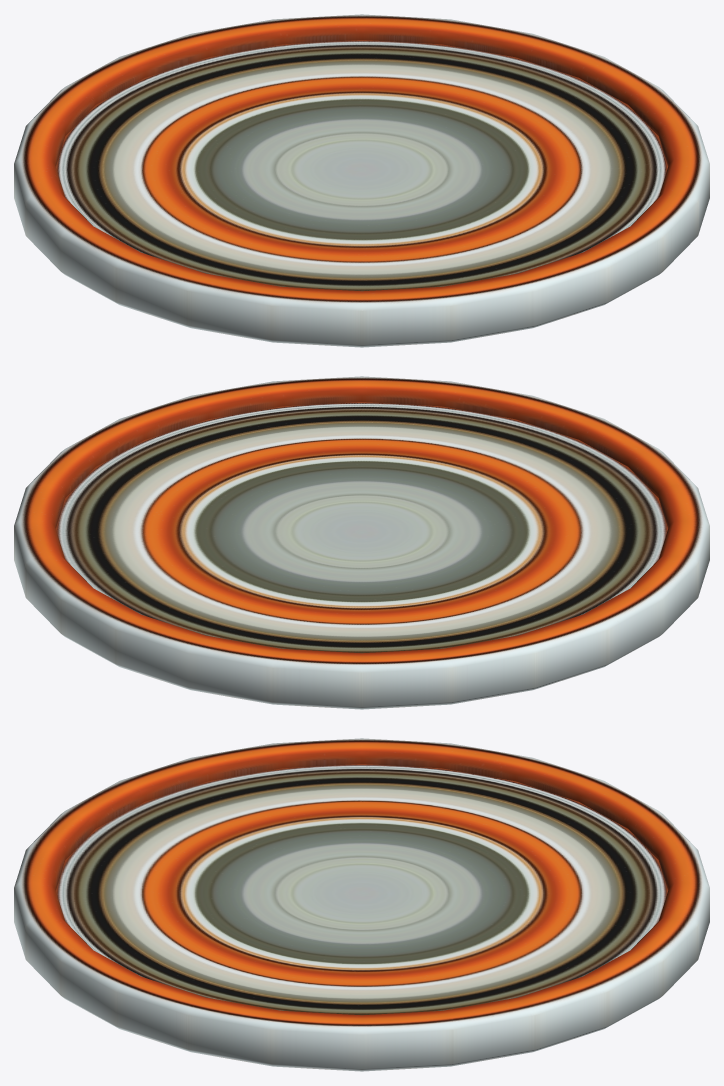
The model's file is Puck08.fbx.
The picture shows the model from 3 angles, top to bottom: view 1: azimuth 30°, elevation 25°; view 2: azimuth 150°, elevation 25°; view 3: azimuth 270°, elevation 25°; orthographic projection.
Visible parts, largest first — view 1: Empty_Mesh; view 2: Empty_Mesh; view 3: Empty_Mesh.
Part boxes in pixels (bbox=[...]): Empty_Mesh: bbox=[14, 14, 709, 347]; Empty_Mesh: bbox=[14, 376, 709, 709]; Empty_Mesh: bbox=[14, 738, 709, 1071].
Bounding box in the file's own units: 7.8 × 0.5377 × 7.8.
